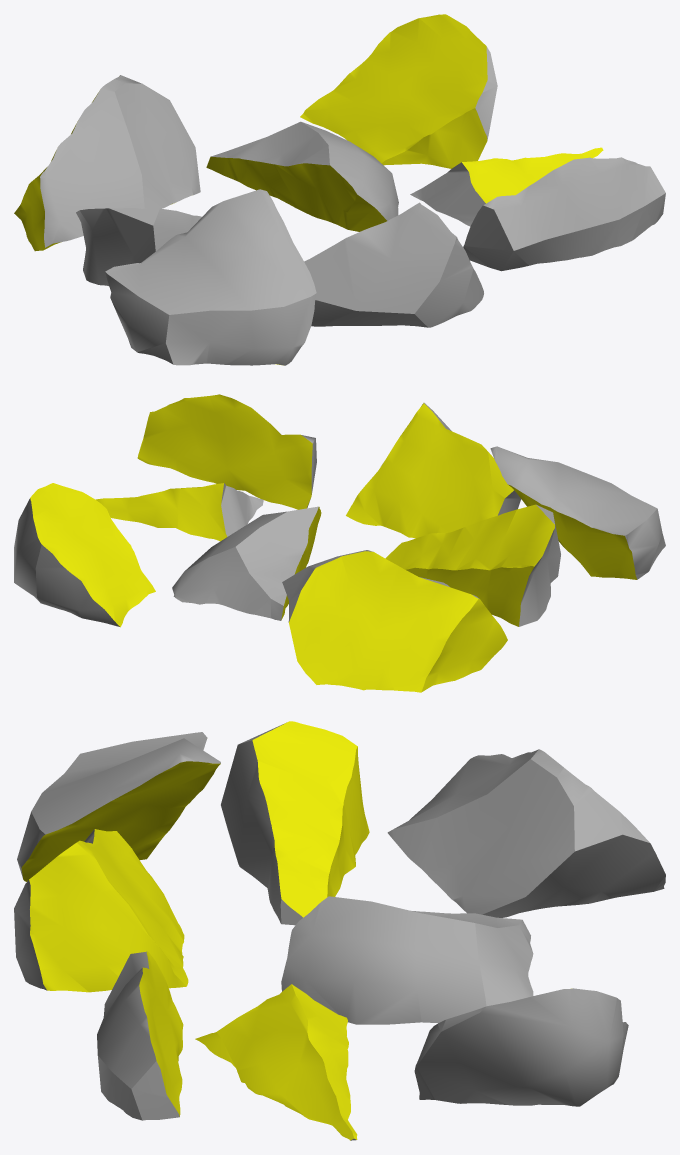
File: StoneDebrisLP.fbx
3 renders of one model, top to bottom at view 1: azimuth 30°, elevation 25°; view 2: azimuth 150°, elevation 25°; view 3: azimuth 270°, elevation 25°, orthographic. The views are drawn at different scales.
Visible parts, largest first — view 1: shard8, shard6, shard4, shard1, shard5, shard2, shard3, shard7; view 2: shard4, shard6, shard1, shard5, shard3, shard8, shard2, shard7; view 3: shard4, shard2, shard3, shard6, shard1, shard8, shard7, shard5.
Part boxes in pixels (<box>): shard8: <box>105,189,316,365</box>; shard6: <box>300,14,497,168</box>; shard4: <box>14,75,200,251</box>; shard1: <box>304,202,483,327</box>; shard5: <box>463,157,665,271</box>; shard2: <box>206,121,398,231</box>; shard3: <box>76,208,201,285</box>; shard7: <box>410,147,603,226</box>; shard4: <box>282,550,507,692</box>; shard6: <box>14,483,155,627</box>; shard1: <box>346,403,521,538</box>; shard5: <box>137,394,316,509</box>; shard3: <box>385,504,560,626</box>; shard8: <box>490,446,665,579</box>; shard2: <box>172,506,321,620</box>; shard7: <box>95,483,263,541</box>; shard4: <box>387,749,665,917</box>; shard2: <box>281,896,533,1024</box>; shard3: <box>221,721,369,925</box>; shard6: <box>414,988,628,1106</box>; shard1: <box>14,829,188,992</box>; shard8: <box>17,732,220,881</box>; shard7: <box>195,984,357,1140</box>; shard5: <box>97,951,183,1120</box>.
Size of the model in its own units: 23.21 by 5.06 by 18.8.
